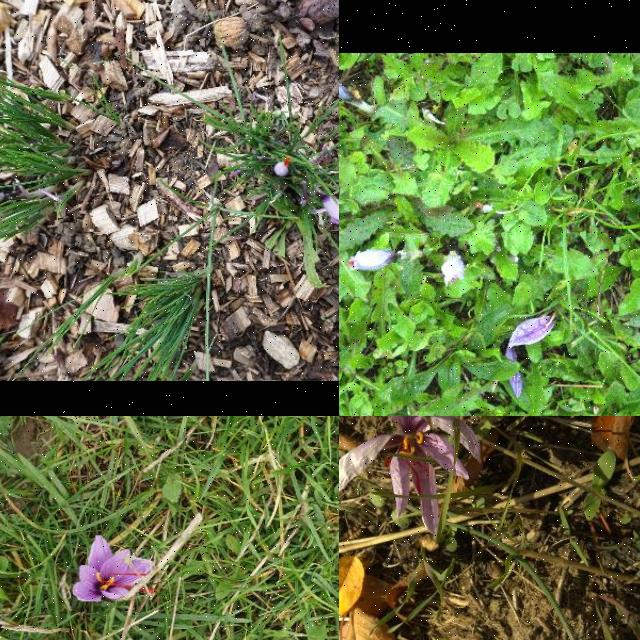flower: (339, 416, 482, 539), (72, 536, 154, 602), (349, 250, 398, 272), (442, 256, 463, 284), (323, 196, 339, 228), (339, 73, 353, 102), (274, 160, 290, 177)
